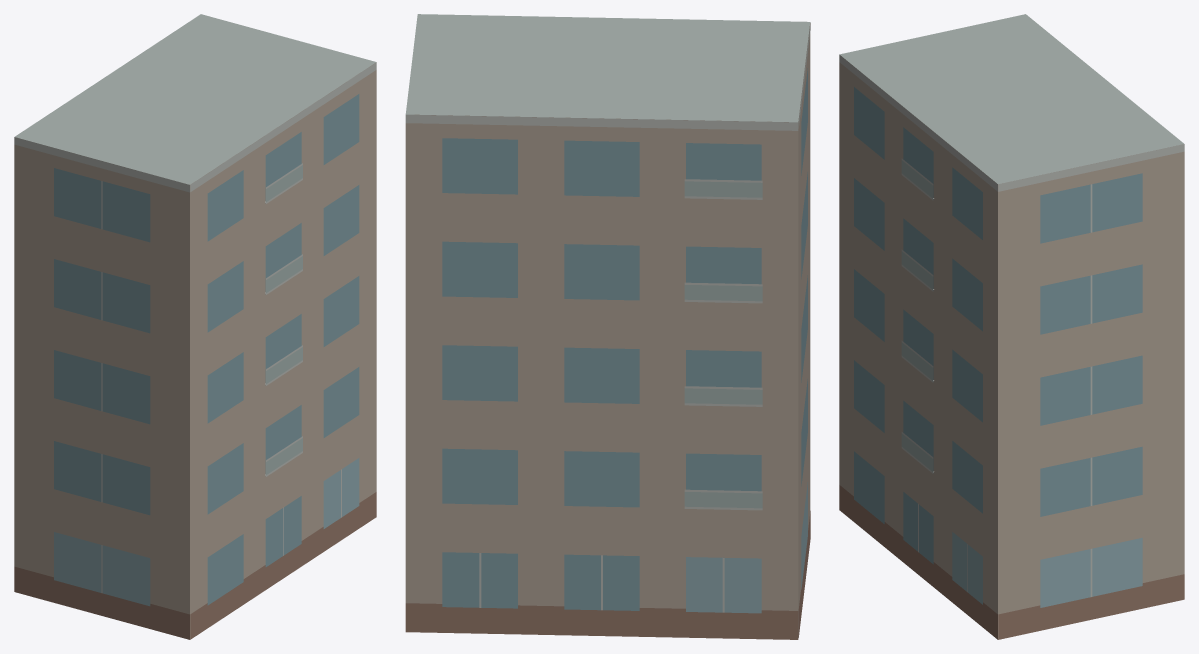
Rendered from survey-upis-32978291.glb.
3 views of the same model, side by side, from view 1: azimuth 30°, elevation 25°; view 2: azimuth 150°, elevation 25°; view 3: azimuth 270°, elevation 25° (orthographic). The views are drawn at different scales.
Visible parts, largest first — view 1: survey-upis-32978291.tmp; view 2: survey-upis-32978291.tmp; view 3: survey-upis-32978291.tmp.
Boxes of the visible parts, x1,y1,x2,y2 form: survey-upis-32978291.tmp: [14, 14, 376, 639]; survey-upis-32978291.tmp: [405, 14, 810, 639]; survey-upis-32978291.tmp: [839, 14, 1184, 639].
Size of the model in its own units: 11.71 by 14.6 by 10.04.
